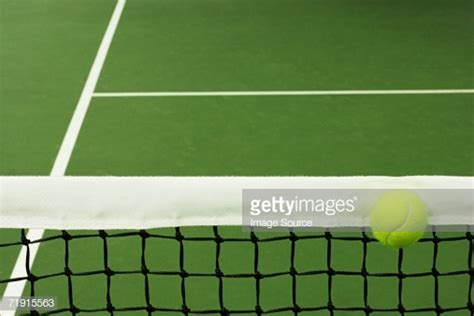tennis_ball: (368, 189, 429, 247)
